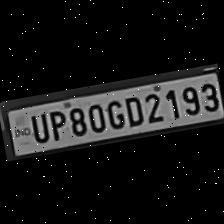0: (84, 99, 107, 135)
1: (158, 85, 181, 121)
2: (140, 89, 165, 125)
3: (196, 78, 220, 114)
8: (64, 103, 89, 139)
9: (176, 82, 202, 118)
D: (119, 91, 145, 128)
G: (103, 96, 126, 132)
P: (44, 106, 68, 142)
U: (25, 108, 50, 144)
